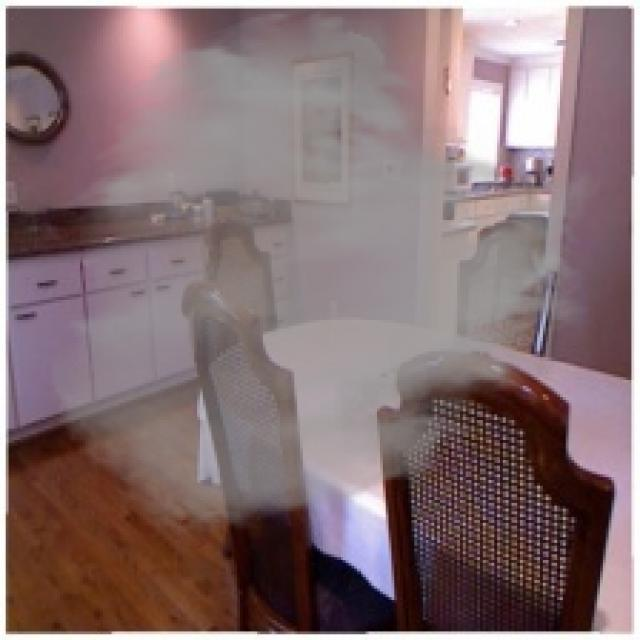Smoke: (46, 5, 603, 538)
